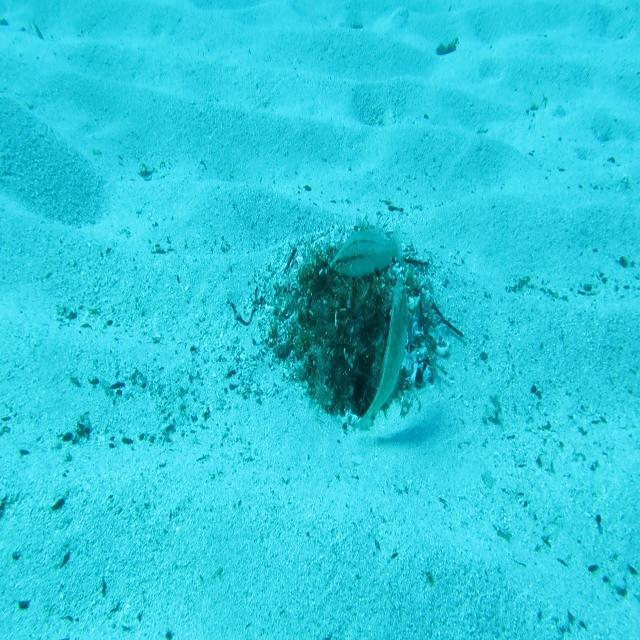GB: (345, 274, 416, 434)
core_nest: (328, 266, 373, 319)
female: (328, 219, 405, 279)
nest: (246, 215, 456, 447)
vegetation: (436, 37, 458, 57)
